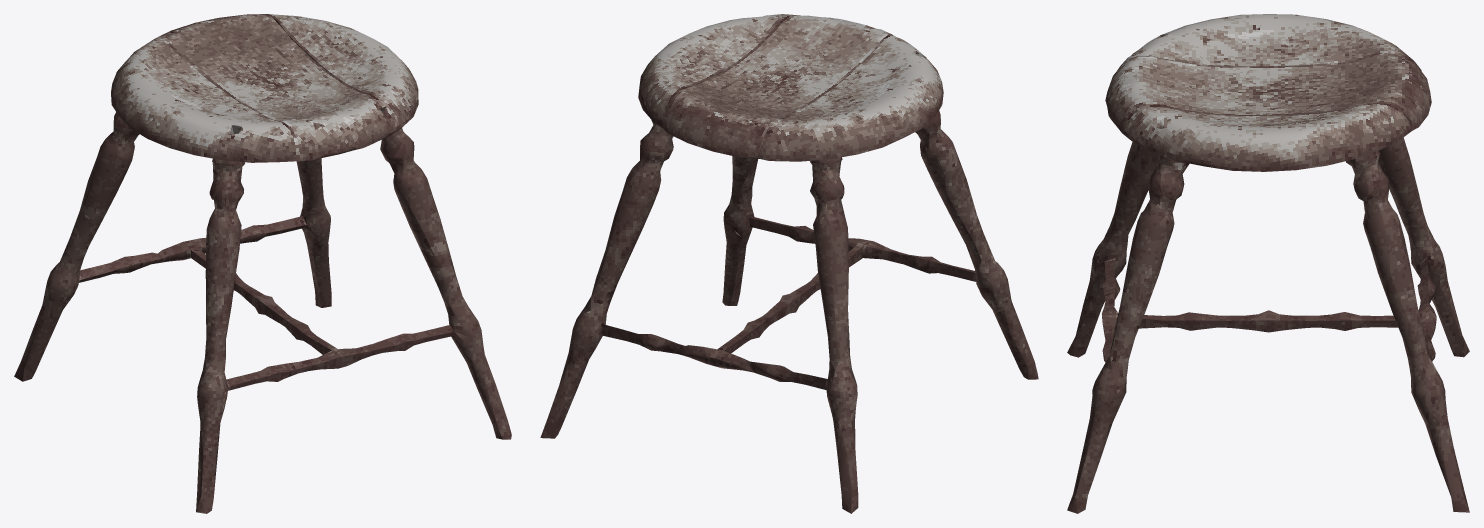
Rendered from wooden_stool_01.glb.
3 renders of one model, left to right at view 1: azimuth 30°, elevation 25°; view 2: azimuth 150°, elevation 25°; view 3: azimuth 270°, elevation 25°, orthographic. The views are drawn at different scales.
Visible parts, largest first — view 1: body; view 2: body; view 3: body.
Part boxes in pixels (left/top/right/bottom): body: left=14, top=14, right=511, bottom=513; body: left=540, top=14, right=1038, bottom=513; body: left=1067, top=14, right=1469, bottom=513.
Bounding box in the file's own units: 0.4267 × 0.4374 × 0.4432.
1 material, 1 textured.
